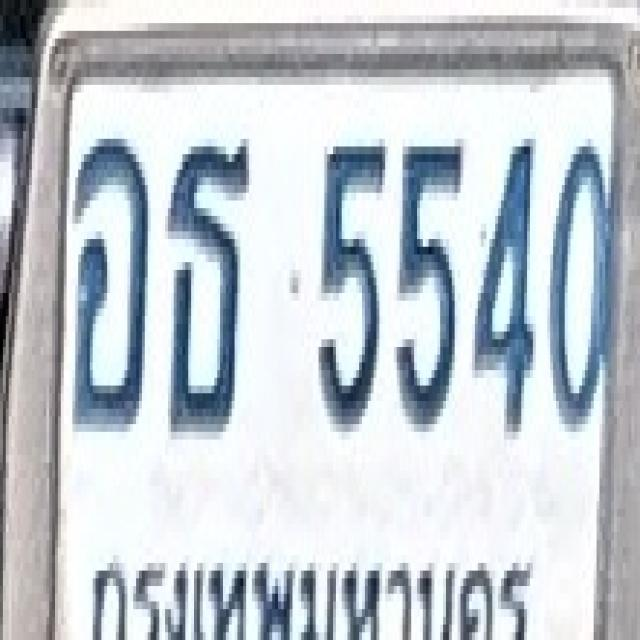0: (547, 135, 620, 428)
4: (472, 127, 536, 436)
5: (394, 131, 463, 432), (316, 135, 385, 428)
A24: (165, 135, 252, 436)
A43: (71, 131, 149, 432)
